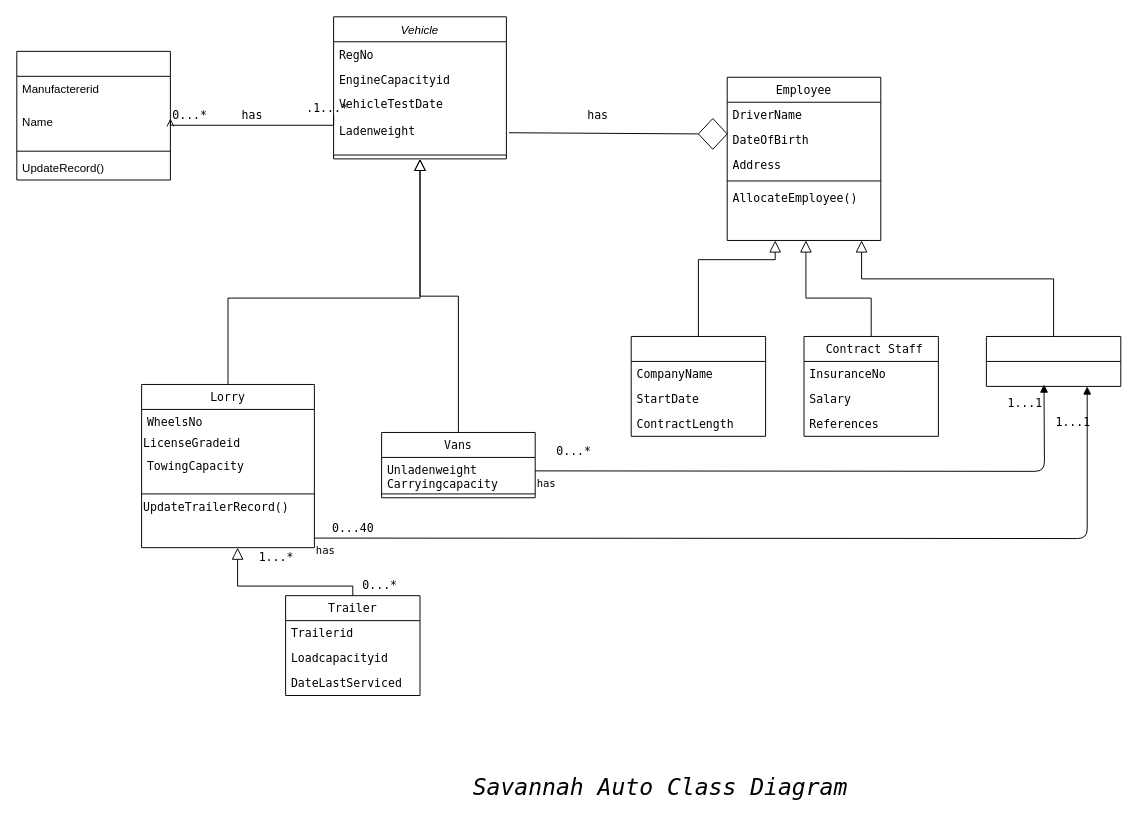
The diagram is 1138 pixels wide and 818 high, and some of its shapes have lost their labels. Here are the shapes that lost their labels. From the top down, the box of each, then its label:
(16, 50, 170, 180): Manufacturer
(985, 336, 1121, 386): Permanent
(630, 336, 766, 436): Contractors
